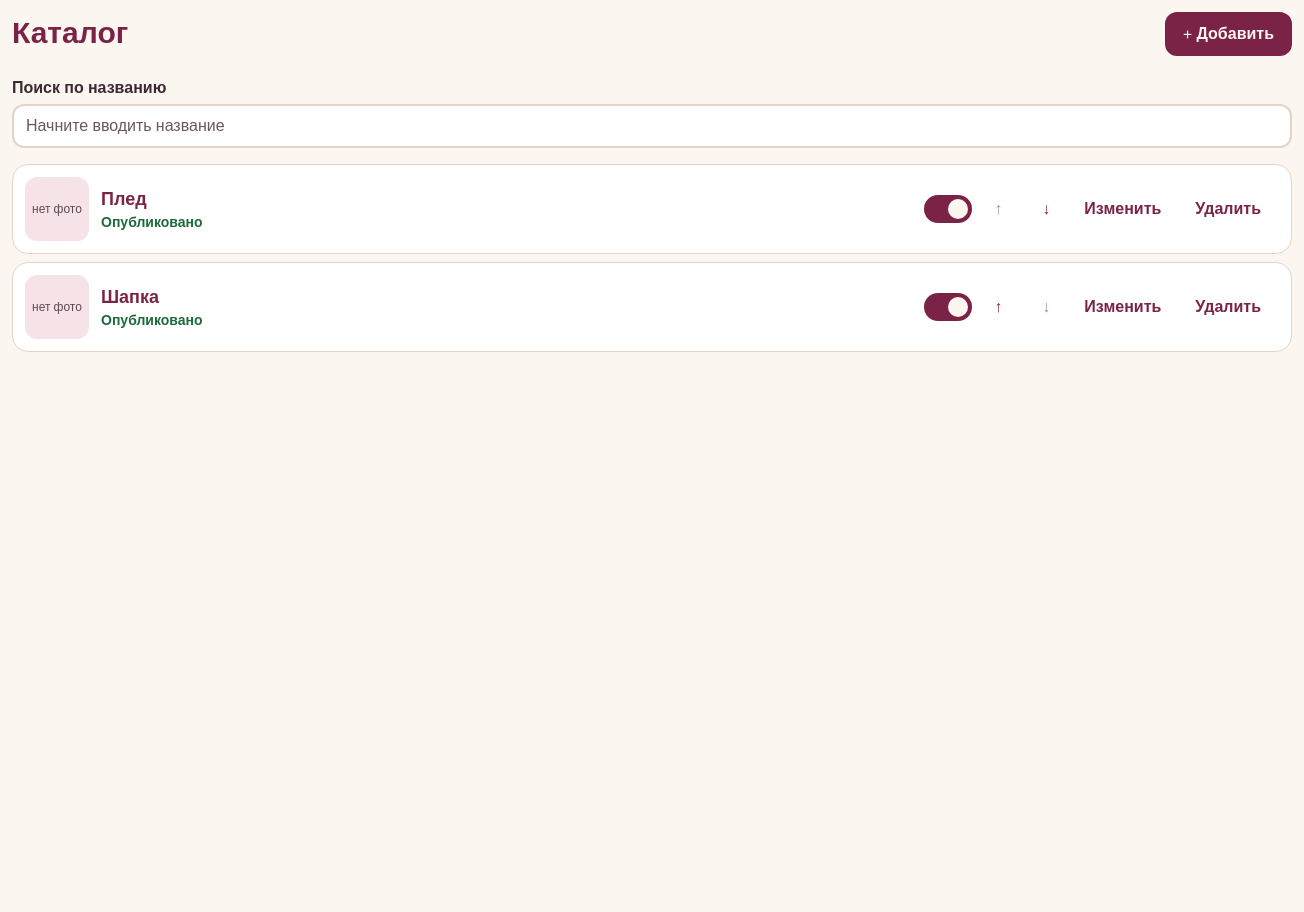
список › скрывает запись переключателем (PUT с is_published=false)
Click the switch named "Плед". click: (948, 209)
box: x1=924 y1=187 x2=972 y2=231
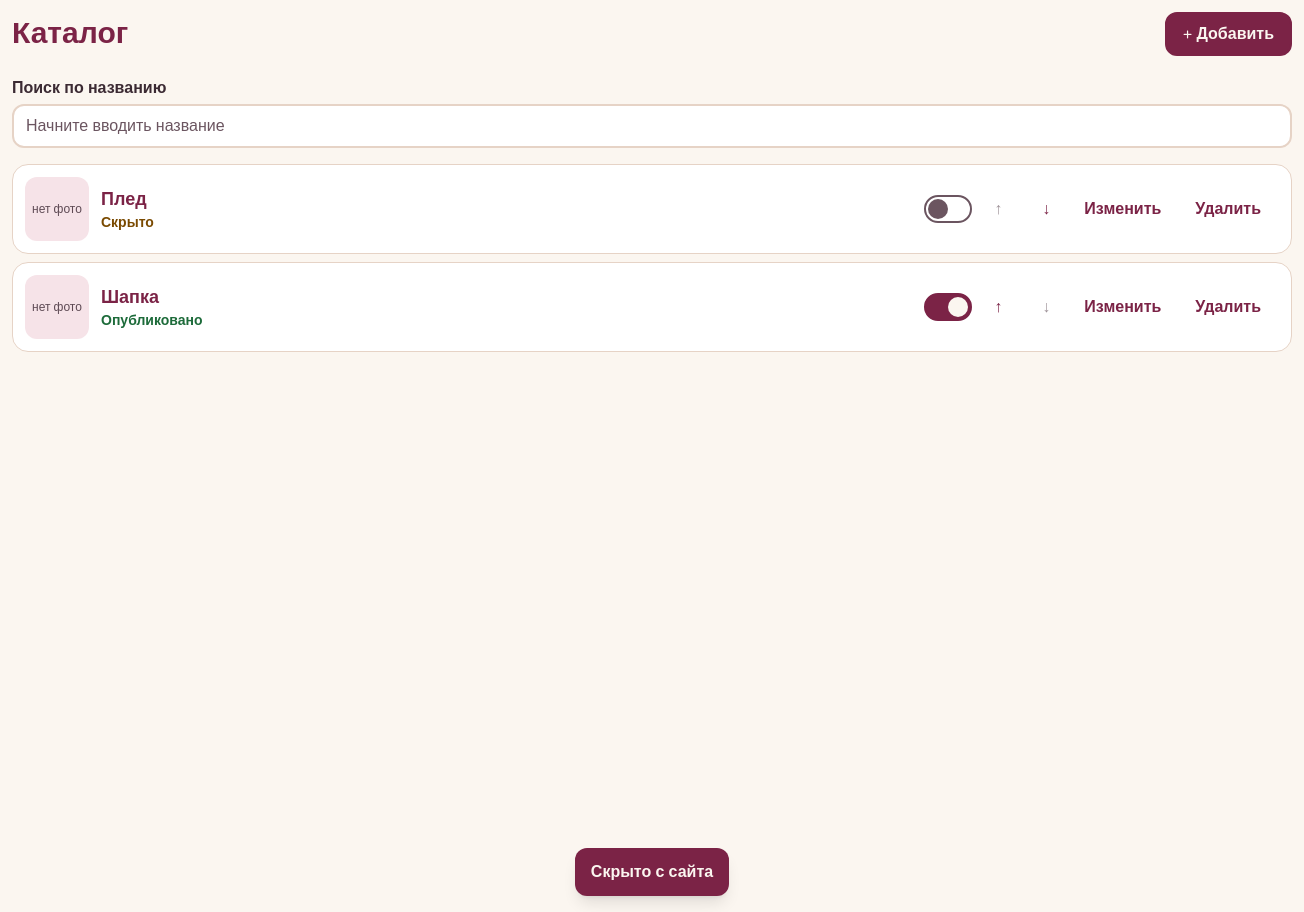
Check: the text "Скрыто" is shown, box x1=101 y1=213 x2=154 y2=232
